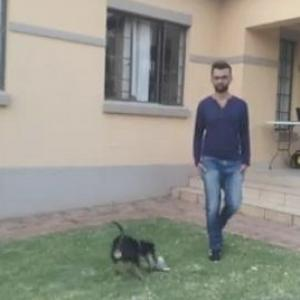follow: (190, 60, 254, 258)
